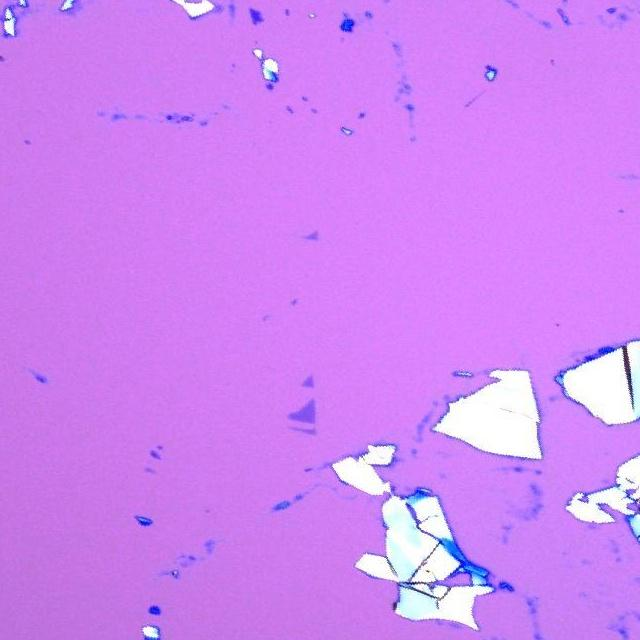monolayer-eWW4: (285, 396, 316, 422), (286, 425, 317, 436), (300, 228, 318, 242), (302, 376, 316, 388)
